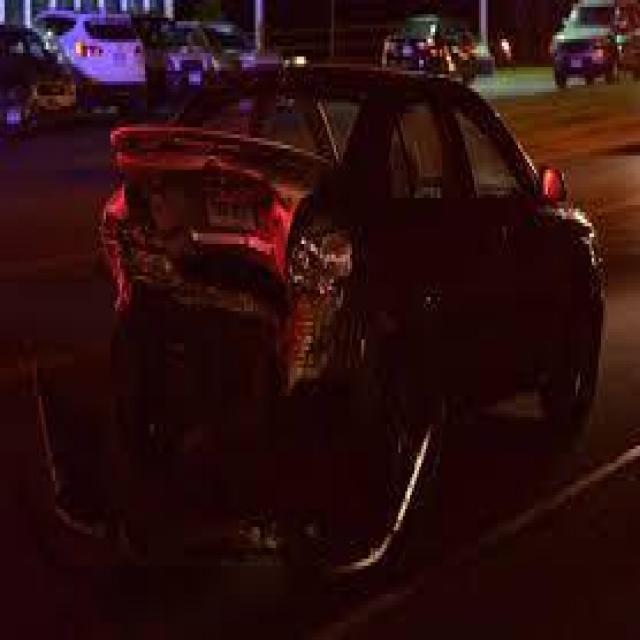damaged: (104, 127, 376, 453)
